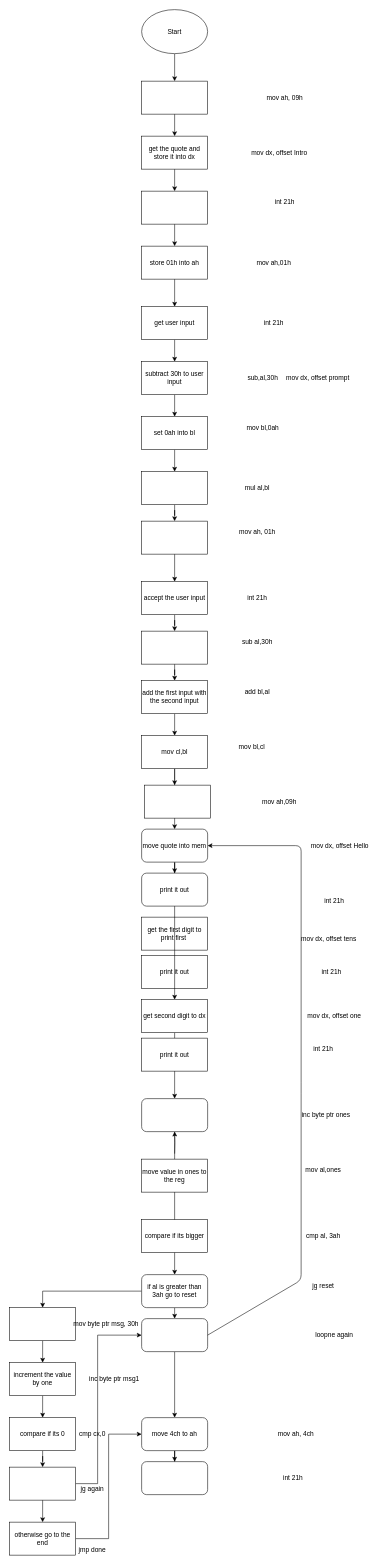
Some shapes in this 382 by 1565 pixel diagram are drawn without their labels. The shapes that lost their labels are listed below. From the top down, each one's centre as x and y in pixels, then its label:
point (174, 97): store 09h, into ah
point (174, 207): print the store info
point (174, 488): multply the bl reg to the al reg
point (174, 537): get second number input
point (174, 647): subtract 30h from the user input
point (177, 801): put 09h into the reg
point (174, 1115): increment the number by 1
point (42, 1324): set value to 30h
point (174, 1335): loop back
point (42, 1483): if bigger jump to loop
point (174, 1478): End
